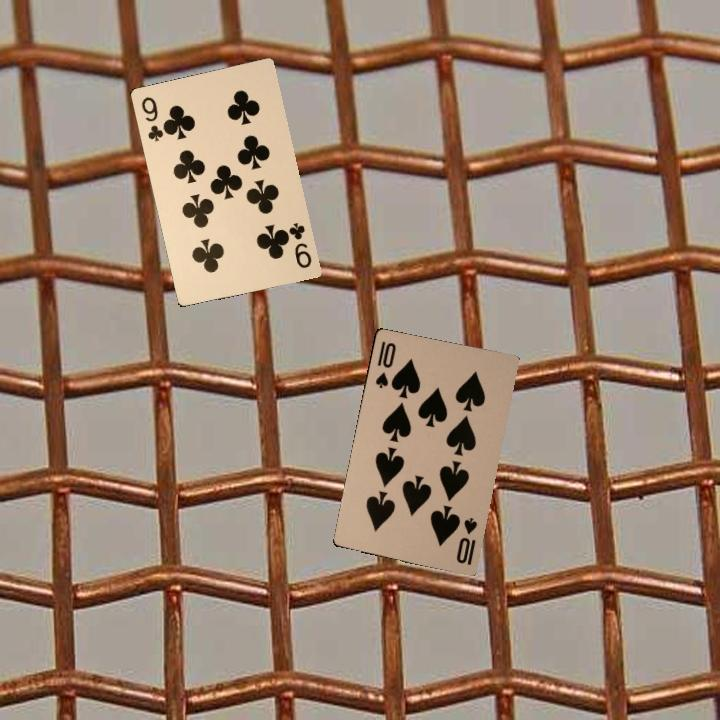10s: (371, 337, 399, 391), (452, 514, 480, 568)
9c: (137, 93, 168, 144), (285, 219, 314, 271)
